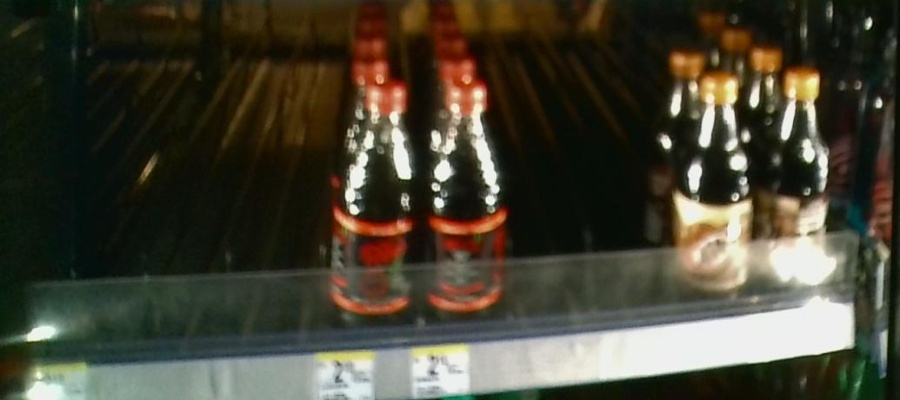bottle: (333, 82, 422, 325), (425, 82, 504, 323), (760, 61, 835, 304), (681, 71, 757, 305)
